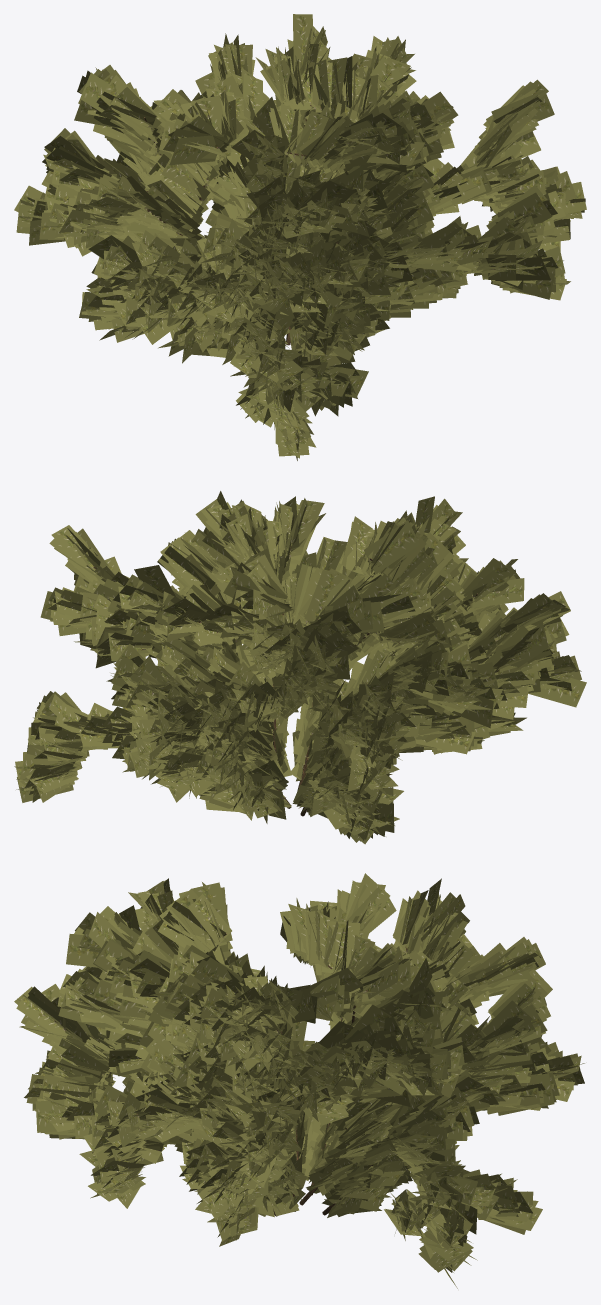
Rendered from thorn_scrub_v02.glb.
3 renders of one model, top to bottom at view 1: azimuth 30°, elevation 25°; view 2: azimuth 150°, elevation 25°; view 3: azimuth 270°, elevation 25°, orthographic. The views are drawn at different scales.
Parts seen in each view (by area): view 1: thorn_scrub_v02; view 2: thorn_scrub_v02; view 3: thorn_scrub_v02.
Boxes of the visible parts, box(x1,y1,x2,y2) form: thorn_scrub_v02: box(14, 14, 586, 460); thorn_scrub_v02: box(14, 491, 586, 844); thorn_scrub_v02: box(14, 873, 584, 1288).
Size of the model in its own units: 3.71 by 2 by 3.62.
2 materials, 2 textured.
